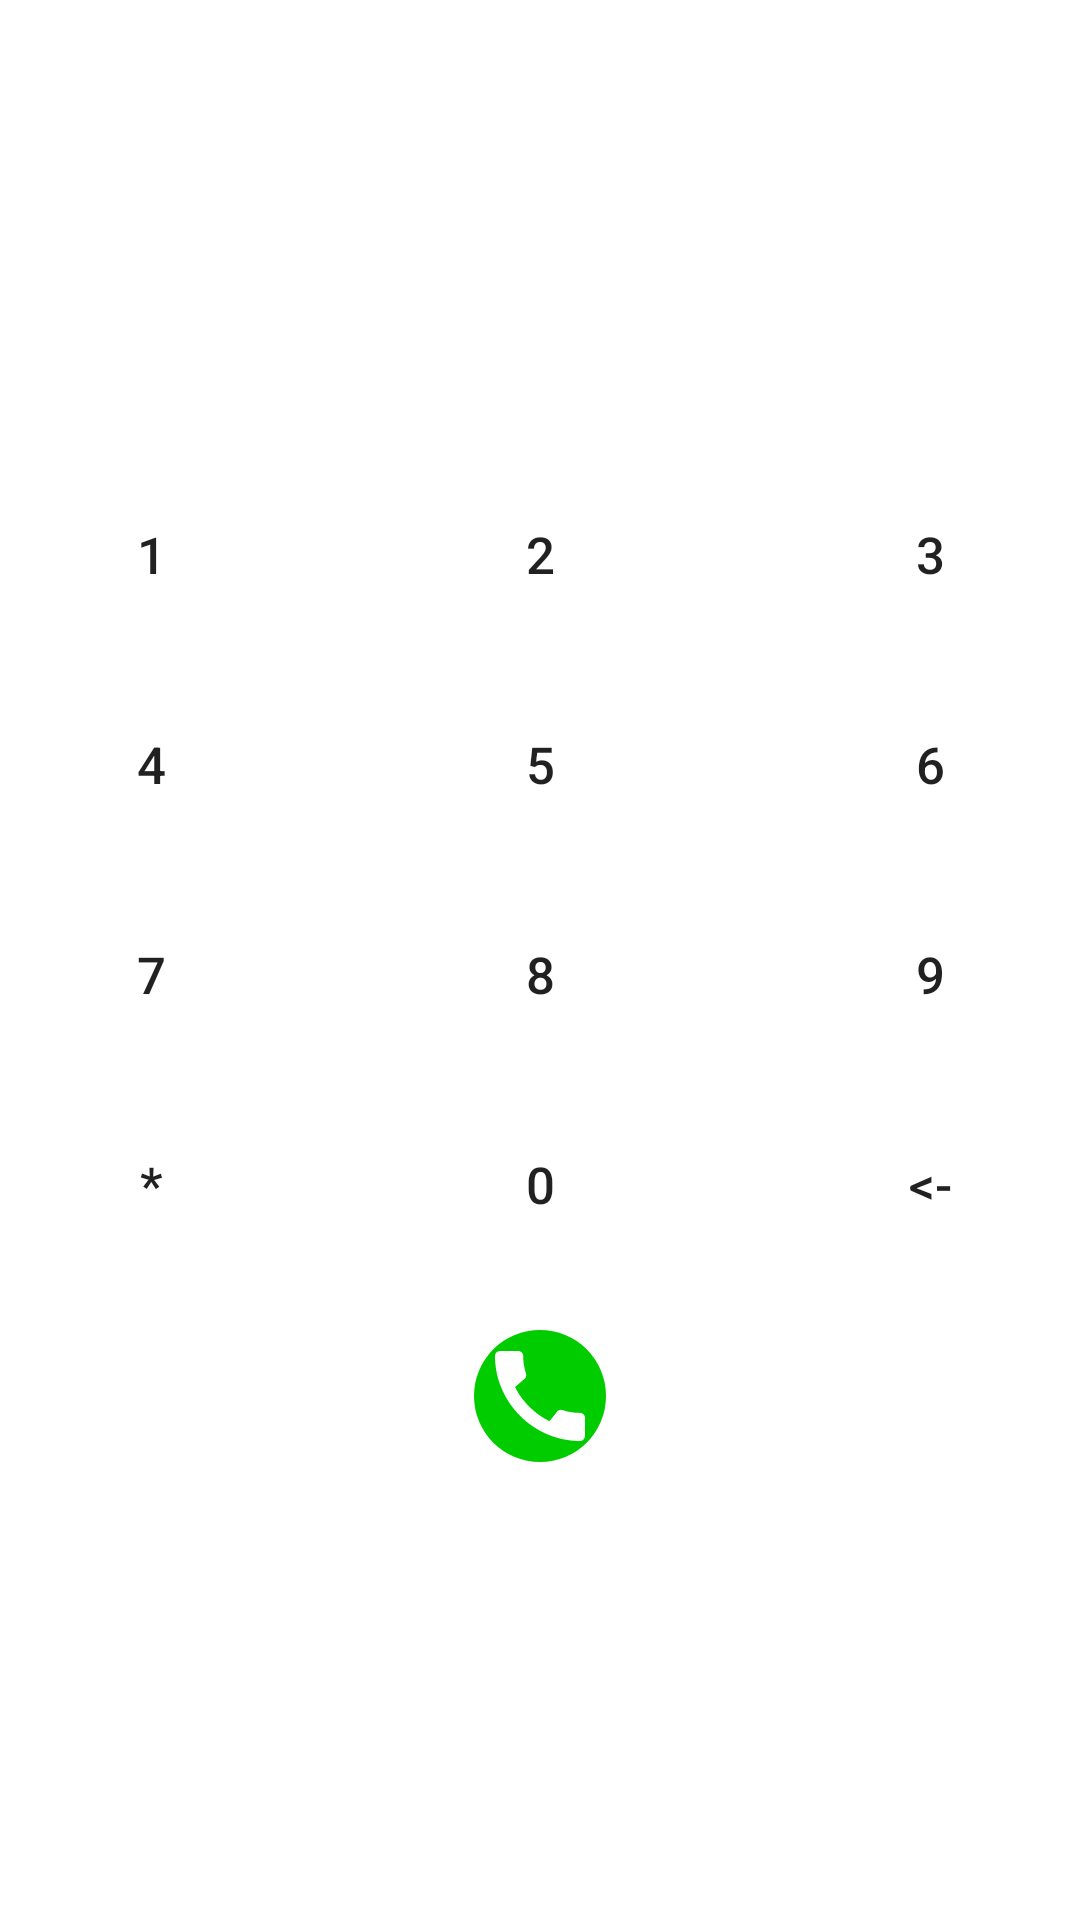

Where icons sit on this 1080px x 1920px app screen, as (x1=x1, y1=y1, x2=x2, y2=y2):
call: (x1=480, y1=1336, x2=600, y2=1456)
